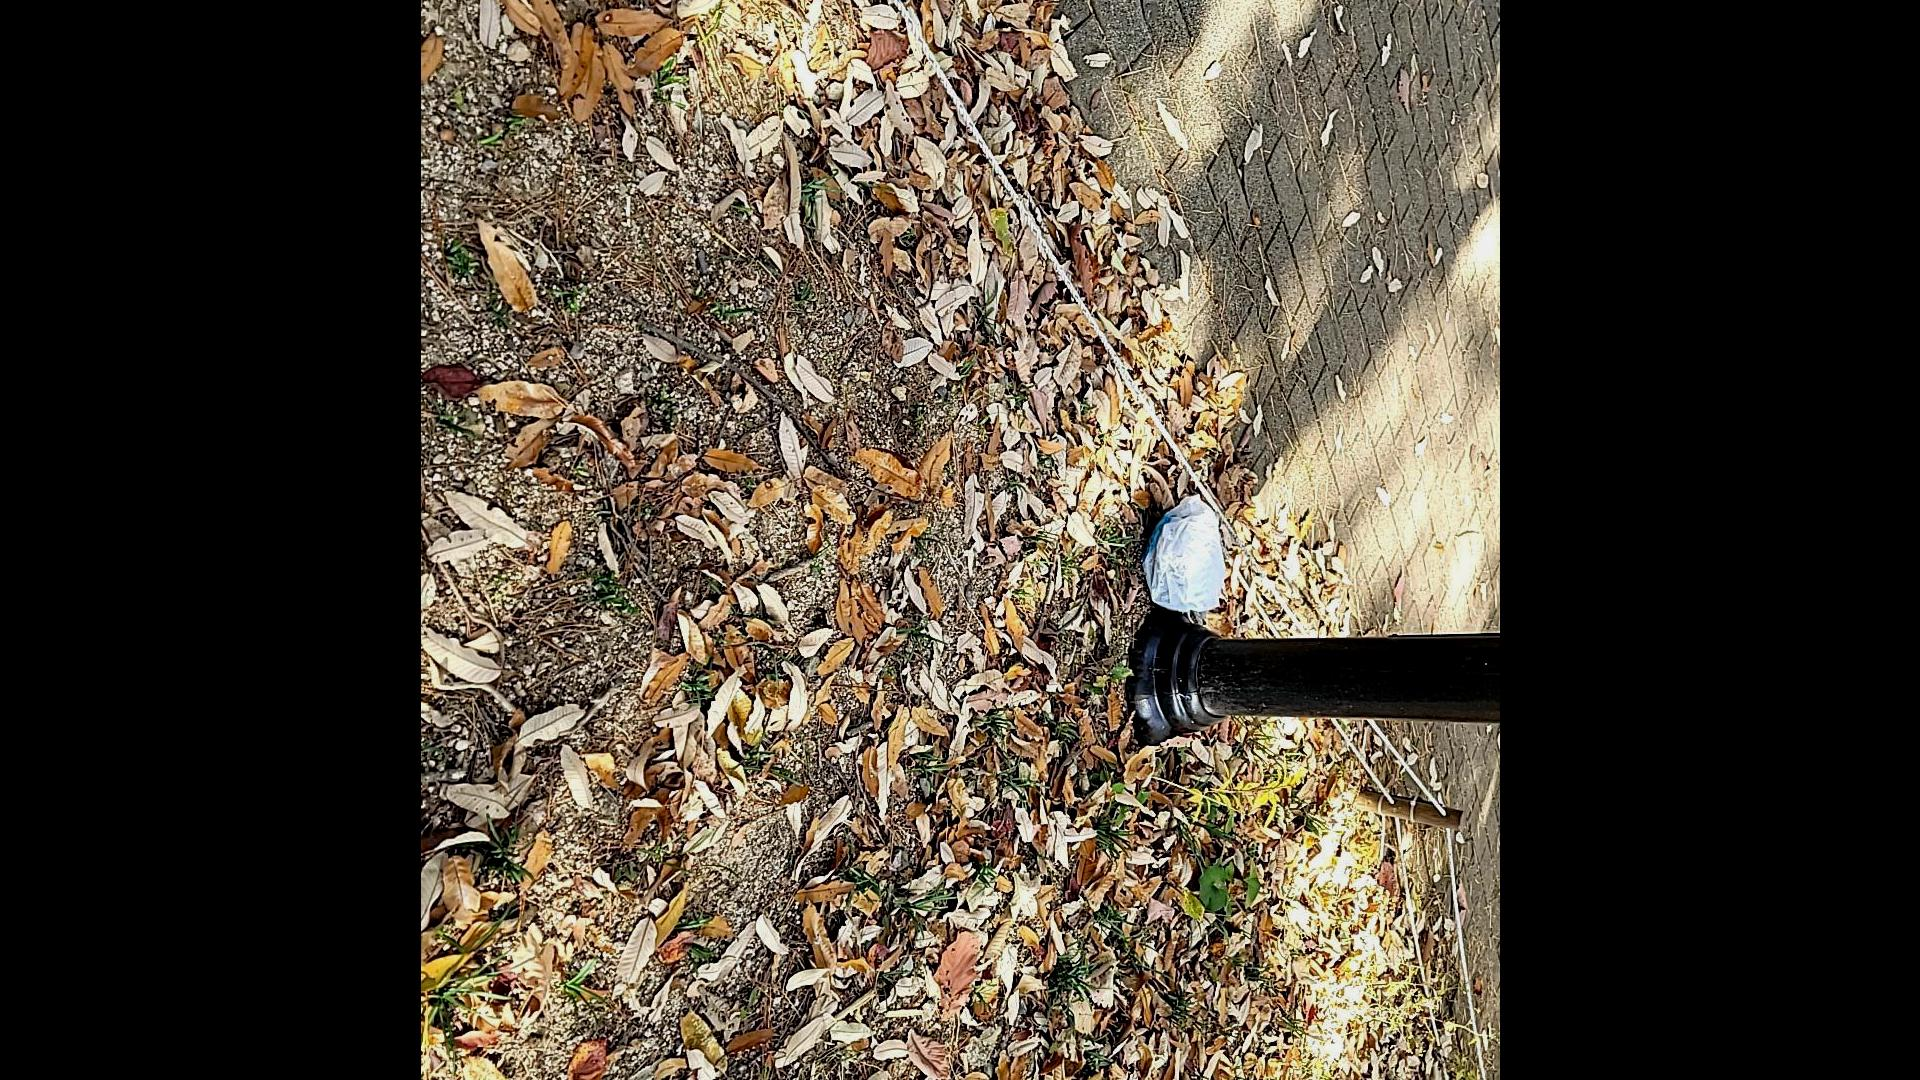white_bag: (1138, 483, 1233, 615)
